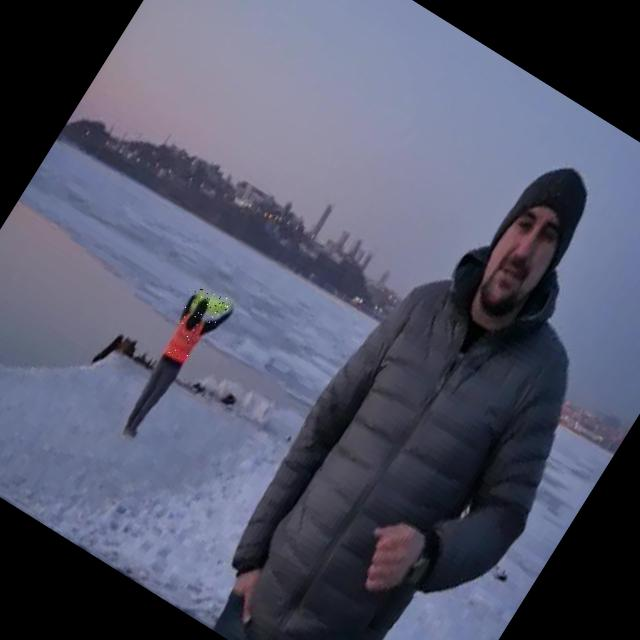safety_vest: (159, 308, 209, 368), (184, 282, 234, 329)
